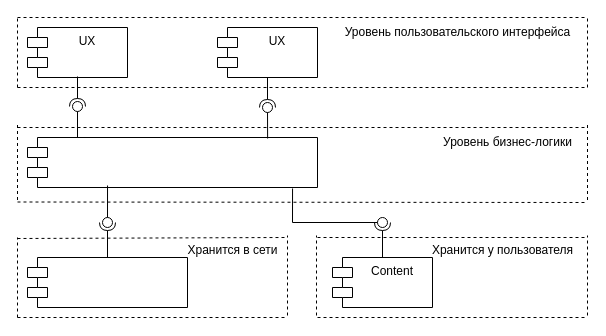
Image size: 606x336. Some labels were removed from this diagram. Here are the shapes that lost their labels. From the top down, the centre of each, then its label:
[172,162]: AppController
[107,282]: UserChatsRepository
